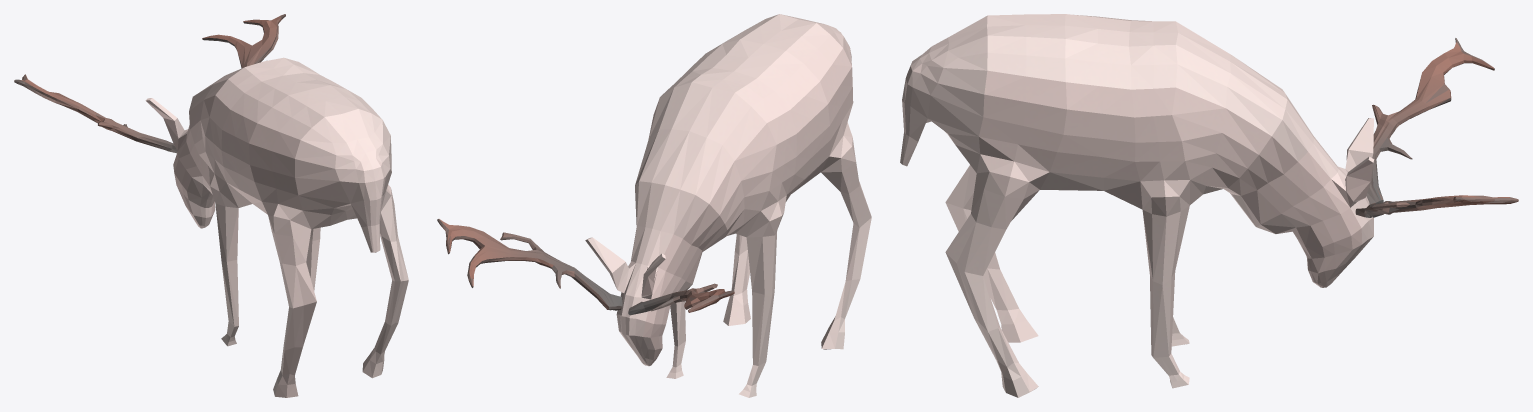
The model's file is Deer_3.fbx.
3 renders of one model, left to right at view 1: azimuth 30°, elevation 25°; view 2: azimuth 150°, elevation 25°; view 3: azimuth 270°, elevation 25°, orthographic. The views are drawn at different scales.
Visible parts, largest first — view 1: polySurface42; view 2: polySurface42; view 3: polySurface42.
Boxes of the visible parts, x1,y1,x2,y2 form: polySurface42: [14, 14, 408, 397]; polySurface42: [437, 14, 871, 397]; polySurface42: [900, 14, 1518, 397].
Bounding box in the file's own units: 2.27 × 2.24 × 3.69.
Materials: 1 (1 with a texture image).
